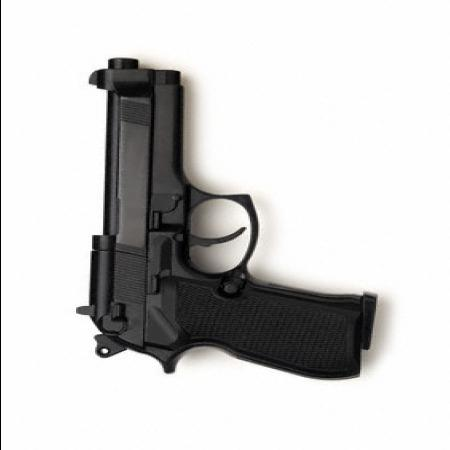Pistol: (74, 56, 376, 376)
